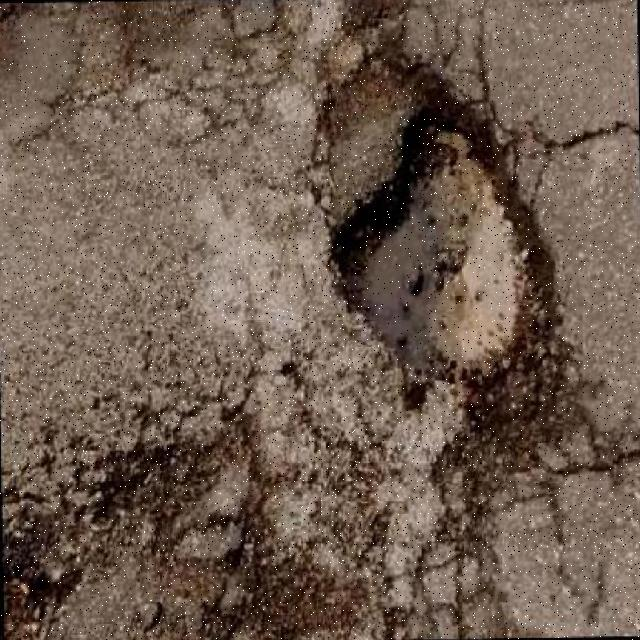pothole: (308, 50, 574, 508), (1, 401, 366, 640)
